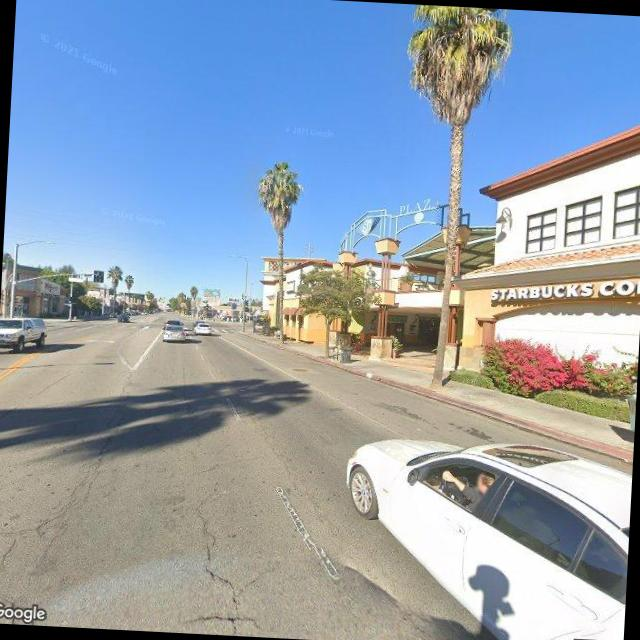crack: (175, 486, 272, 636)
pothole: (0, 418, 121, 606), (0, 535, 21, 599)
